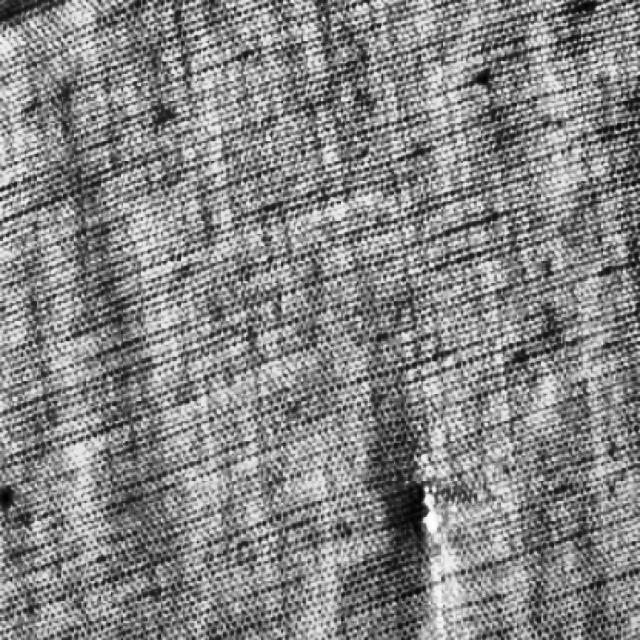hole: (410, 499, 450, 547)
